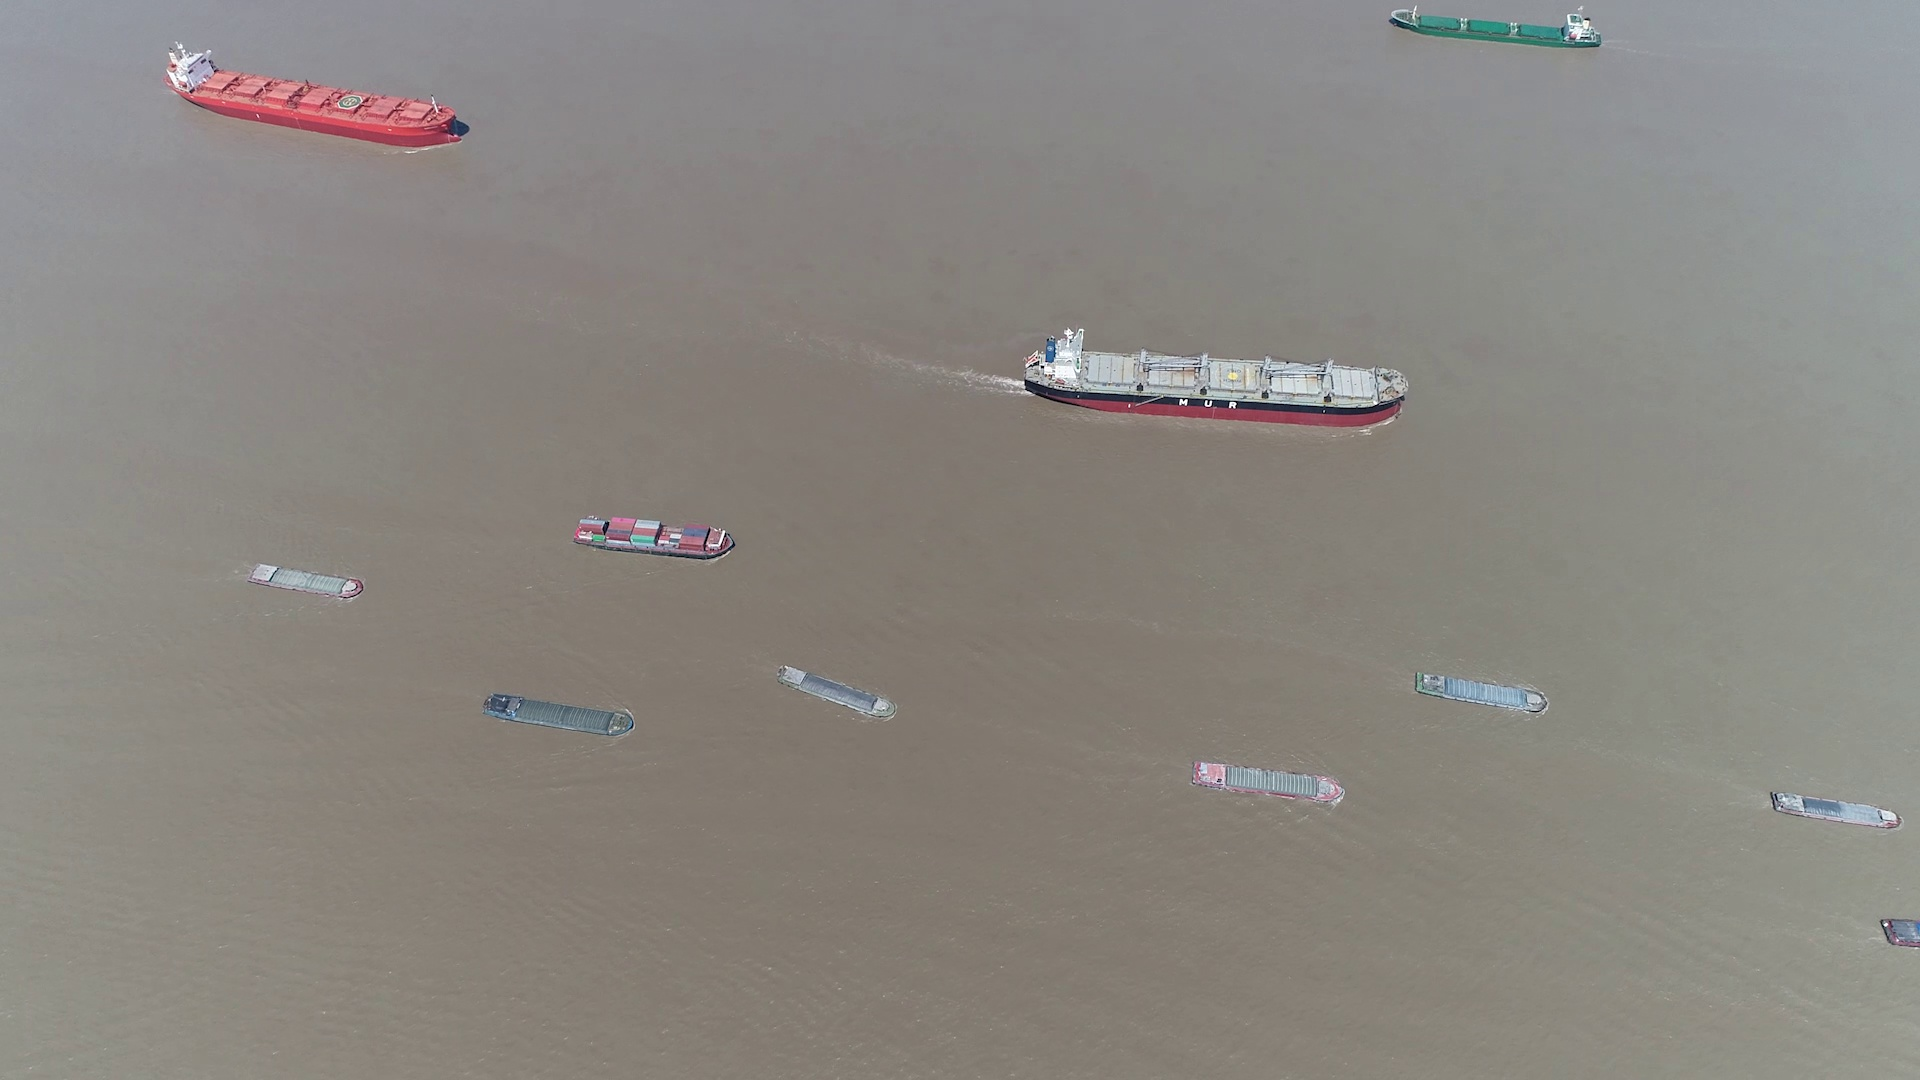ship: (1027, 334, 1408, 429), (162, 40, 465, 148), (1389, 11, 1600, 49), (571, 516, 736, 559), (485, 694, 637, 738), (778, 665, 897, 721), (1193, 761, 1346, 804), (1414, 673, 1549, 715), (1768, 790, 1900, 829), (248, 563, 363, 600), (1882, 919, 1919, 951)
